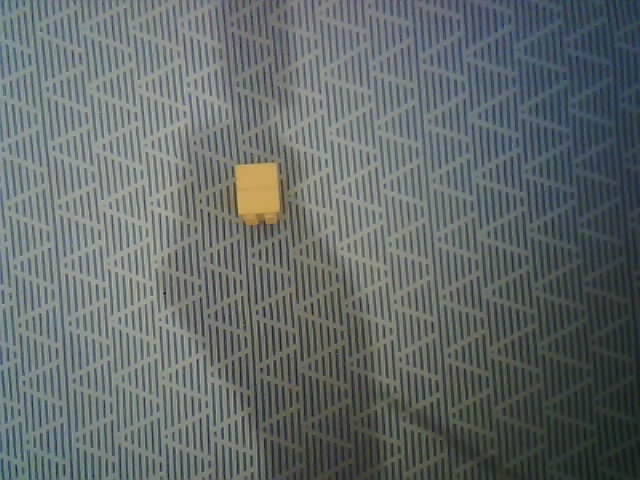lego: (232, 162, 283, 226)
